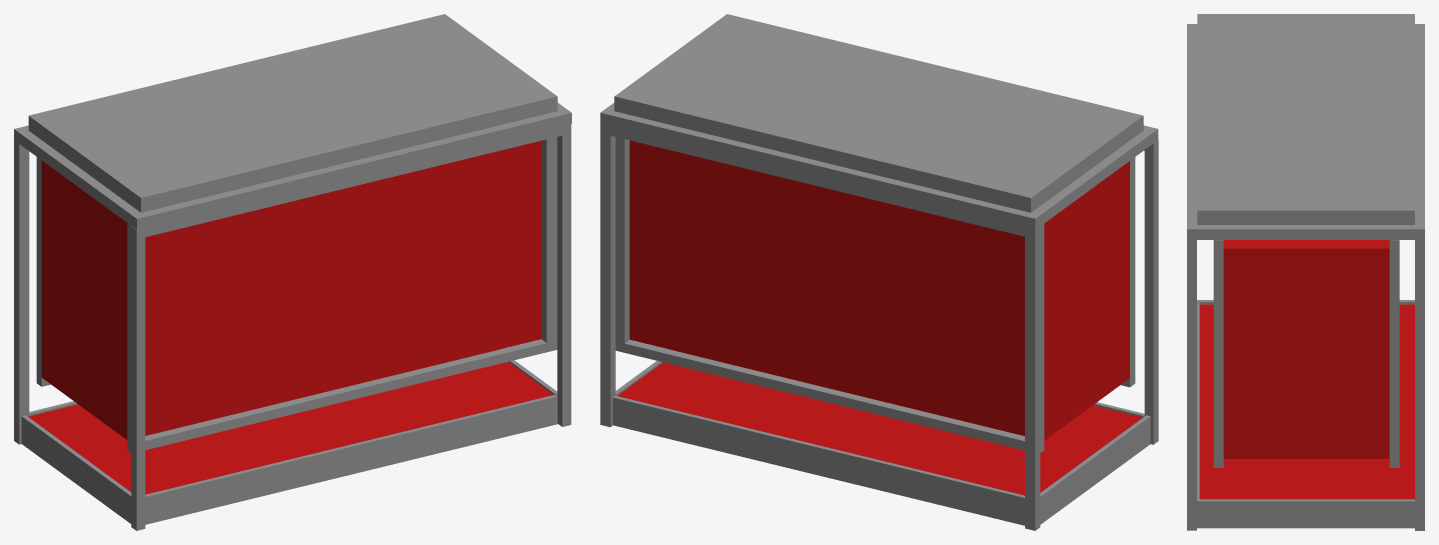
The model's file is Counter_8_Exhibition_Table_Display_Rectangle070_1.FBX.
3 renders of one model, left to right at view 1: azimuth 30°, elevation 25°; view 2: azimuth 150°, elevation 25°; view 3: azimuth 270°, elevation 25°, orthographic. The views are drawn at different scales.
Visible parts, largest first — view 1: Counter_8_Exhibition_Table_Display_Rectangle070_1; view 2: Counter_8_Exhibition_Table_Display_Rectangle070_1; view 3: Counter_8_Exhibition_Table_Display_Rectangle070_1.
Part boxes in pixels (x1,y1,x2,y2): Counter_8_Exhibition_Table_Display_Rectangle070_1: [14, 14, 571, 530]; Counter_8_Exhibition_Table_Display_Rectangle070_1: [600, 14, 1158, 530]; Counter_8_Exhibition_Table_Display_Rectangle070_1: [1187, 14, 1424, 530].
Size of the model in its own units: 123 by 88.1 by 60.06.
